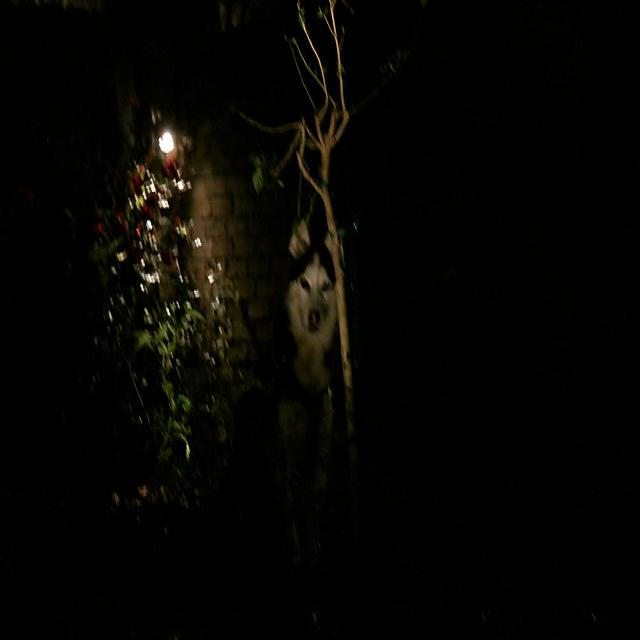Dog: (253, 203, 378, 475)
